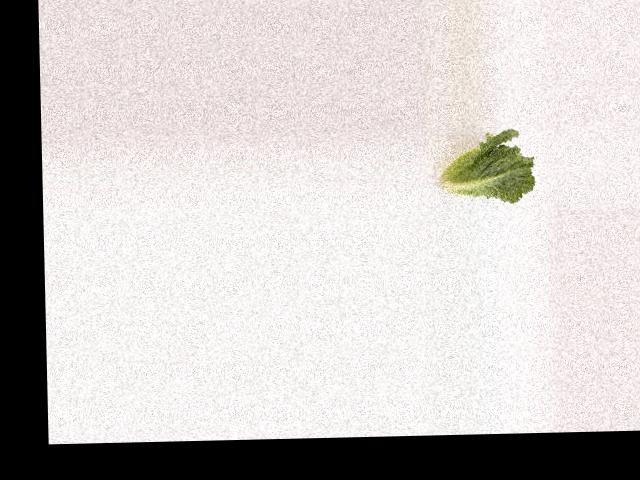lettuce: (427, 132, 538, 207)
